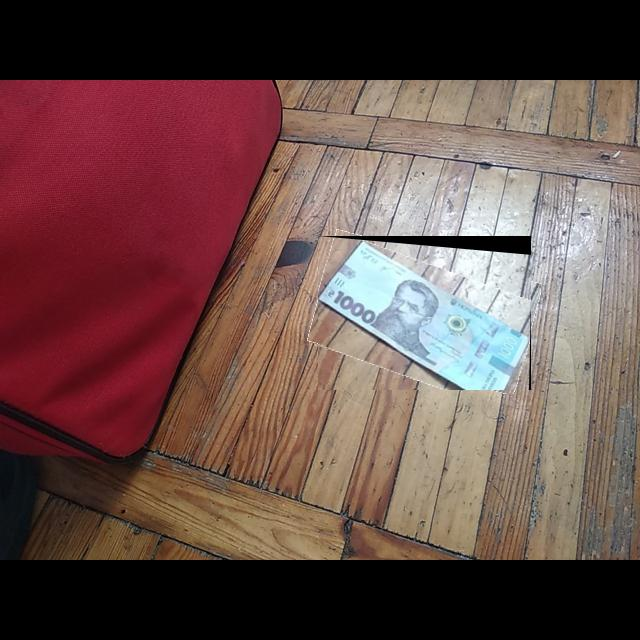1000uah: (318, 240, 531, 391)
